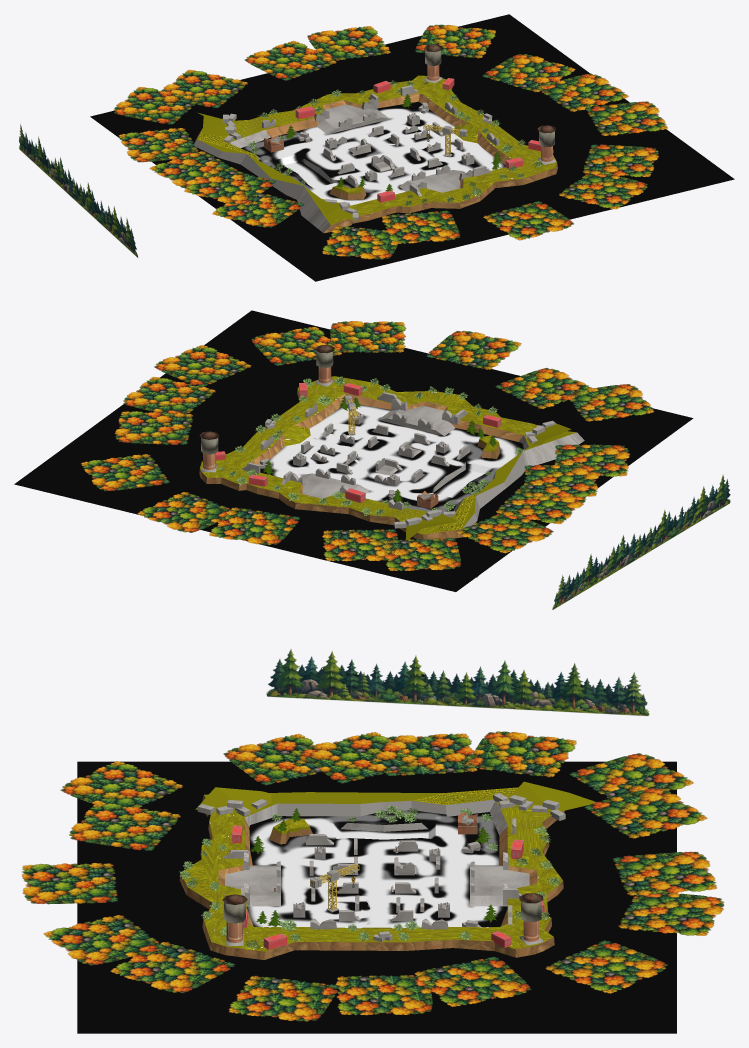
Rendered from TL_shooting_range_opt.glb.
3 views of the same model, one above another, from view 1: azimuth 30°, elevation 25°; view 2: azimuth 150°, elevation 25°; view 3: azimuth 270°, elevation 25° (orthographic). The views are drawn at different scales.
Parts seen in each view (by area): view 1: ground, Cube.010, image-removebg-preview(10).017, forest.011, forest.014, forest.015, forest.004, forest.012, forest, forest.006, forest.009, forest.010 (+11 smaller); view 2: ground, Cube.010, image-removebg-preview(10).017, forest.006, forest.009, forest.014, forest.008, forest.011, forest, forest.015, forest.004, forest.013 (+10 smaller); view 3: ground, Cube.010, image-removebg-preview(10).017, forest.013, forest.011, forest.005, forest.009, forest.015, forest.014, forest, forest.003, forest.006 (+13 smaller).
Boxes of the visible parts, left/top/right/bottom form: ground: left=90, top=14, right=734, bottom=281; Cube.010: left=193, top=44, right=557, bottom=233; image-removebg-preview(10).017: left=19, top=124, right=138, bottom=257; forest.011: left=585, top=101, right=667, bottom=135; forest.014: left=483, top=201, right=573, bottom=240; forest.015: left=382, top=210, right=460, bottom=243; forest.004: left=113, top=87, right=200, bottom=124; forest.012: left=582, top=144, right=658, bottom=177; forest: left=184, top=167, right=275, bottom=204; forest.006: left=244, top=40, right=336, bottom=80; forest.009: left=482, top=54, right=575, bottom=92; forest.010: left=536, top=73, right=628, bottom=111; ground: left=14, top=310, right=693, bottom=591; Cube.010: left=199, top=345, right=584, bottom=577; image-removebg-preview(10).017: left=552, top=475, right=730, bottom=609; forest.006: left=209, top=507, right=299, bottom=544; forest.009: left=114, top=411, right=193, bottom=444; forest.014: left=426, top=331, right=521, bottom=369; forest.008: left=81, top=454, right=169, bottom=491; forest.011: left=154, top=345, right=251, bottom=387; forest: left=524, top=465, right=599, bottom=497; forest.015: left=495, top=368, right=594, bottom=408; forest.004: left=382, top=538, right=460, bottom=570; forest.013: left=330, top=321, right=406, bottom=352; ground: left=77, top=761, right=676, bottom=1033; Cube.010: left=179, top=787, right=564, bottom=959; image-removebg-preview(10).017: left=266, top=649, right=649, bottom=715; forest.013: left=43, top=915, right=165, bottom=965; forest.011: left=229, top=975, right=339, bottom=1021; forest.005: left=584, top=787, right=707, bottom=838; forest.009: left=414, top=956, right=531, bottom=1006; forest.015: left=69, top=802, right=180, bottom=850; forest.014: left=22, top=863, right=117, bottom=904; forest: left=299, top=732, right=418, bottom=783; forest.003: left=466, top=731, right=576, bottom=777; forest.006: left=612, top=851, right=716, bottom=895.
Size of the model in its own units: 5.53 by 0.7075 by 4.8.
23 materials, 19 textured.
